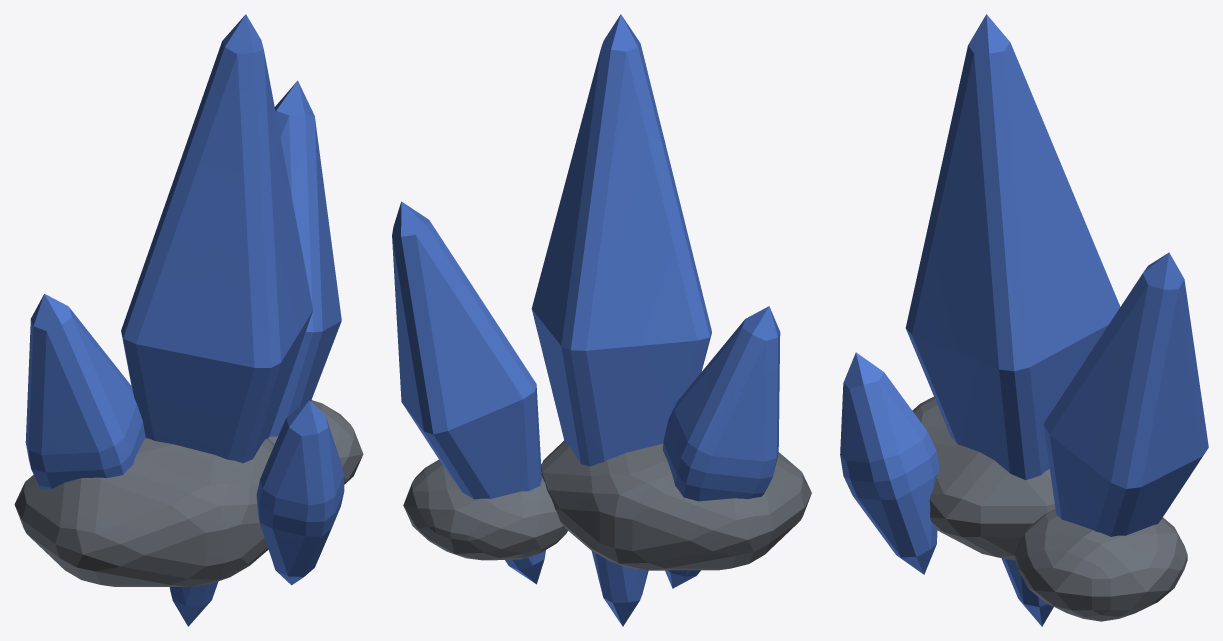
Rendered from prop_crystalC.glb.
The picture shows the model from 3 angles, left to right: view 1: azimuth 30°, elevation 25°; view 2: azimuth 150°, elevation 25°; view 3: azimuth 270°, elevation 25°; orthographic projection. The views are drawn at different scales.
Parts seen in each view (by area): view 1: prop_crystalC_part_0; view 2: prop_crystalC_part_0; view 3: prop_crystalC_part_0.
Boxes of the visible parts, box(x1,y1,x2,y2) form: prop_crystalC_part_0: box(14, 14, 363, 626); prop_crystalC_part_0: box(392, 14, 811, 626); prop_crystalC_part_0: box(840, 14, 1208, 626).
Bounding box in the file's own units: 0.6641 × 1.12 × 0.5938.
